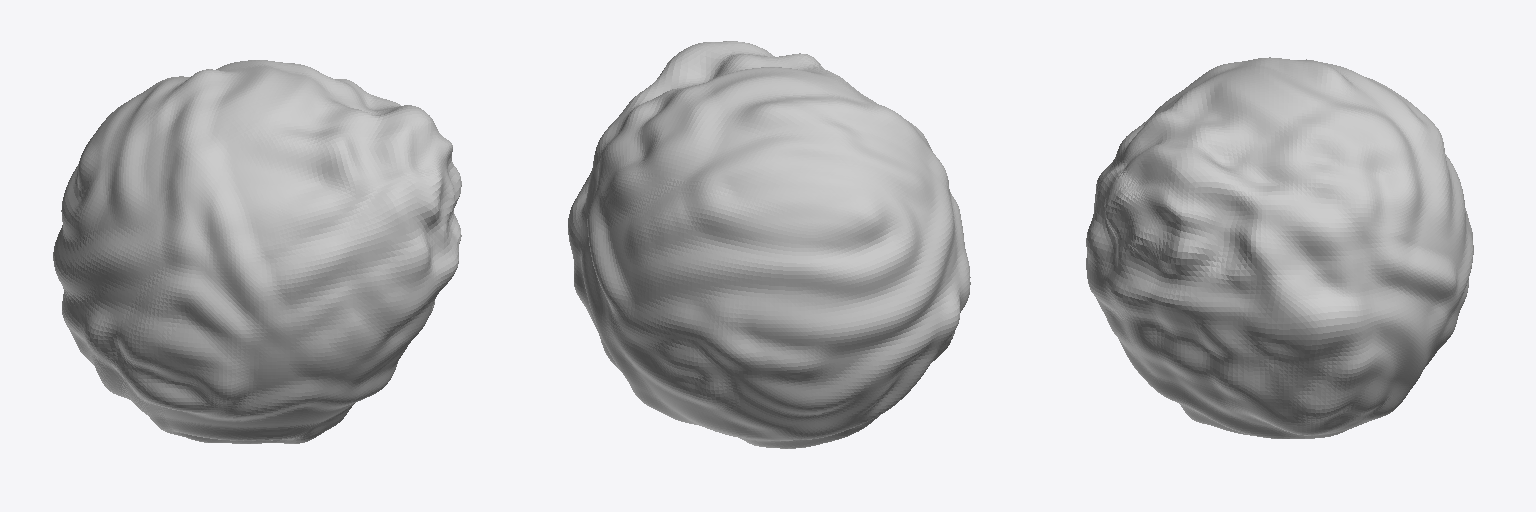
3 views of the same model, side by side, from view 1: azimuth 30°, elevation 25°; view 2: azimuth 150°, elevation 25°; view 3: azimuth 270°, elevation 25° (orthographic).
Parts seen in each view (by area): view 1: Quad Sphere; view 2: Quad Sphere; view 3: Quad Sphere.
Boxes of the visible parts, x1,y1,x2,y2 form: Quad Sphere: [53, 60, 461, 443]; Quad Sphere: [568, 41, 970, 448]; Quad Sphere: [1086, 57, 1473, 438].
Size of the model in its own units: 2.86 by 2.7 by 2.7.